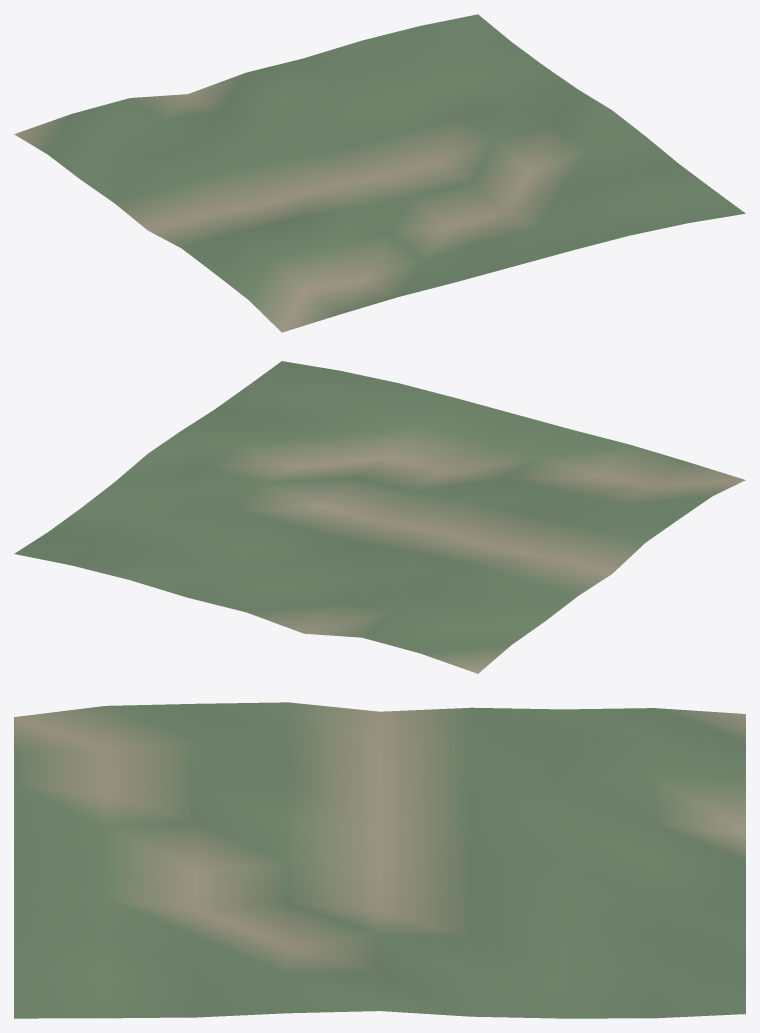
The picture shows the model from 3 angles, top to bottom: view 1: azimuth 30°, elevation 25°; view 2: azimuth 150°, elevation 25°; view 3: azimuth 270°, elevation 25°; orthographic projection. The views are drawn at different scales.
Parts seen in each view (by area): view 1: Lo; view 2: Lo; view 3: Lo.
Boxes of the visible parts, x1,y1,x2,y2 form: Lo: [14, 14, 745, 332]; Lo: [14, 361, 745, 673]; Lo: [14, 702, 745, 1018].
Bounding box in the file's own units: 256 × 6.66 × 256.
